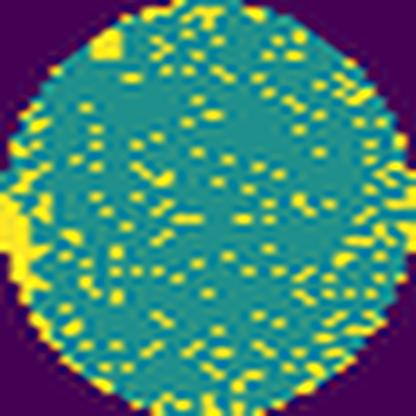Edge-Loc: (1, 150, 61, 315), (78, 18, 126, 65)
